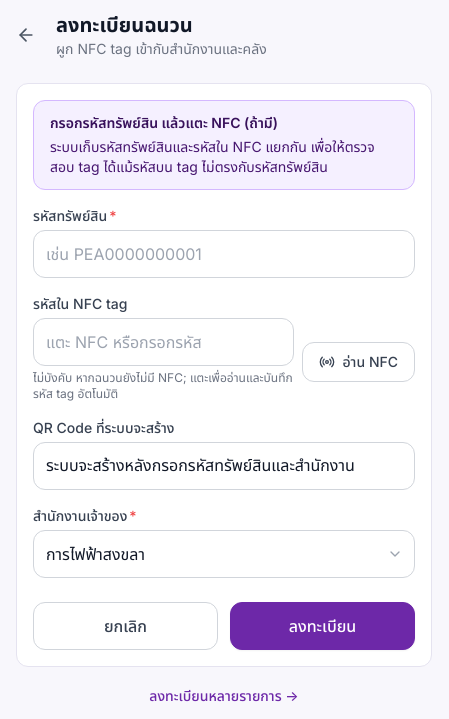
it: RegisterCoverPage — single add (Flow 2) › routes a scanned NFC text record into the nfcId field, not assetCode
The image size is (449, 719).
Type "PEA-0001" into the field labelled "รหัสทรัพย์สิน*" at [224, 254], box [33,230,415,278]
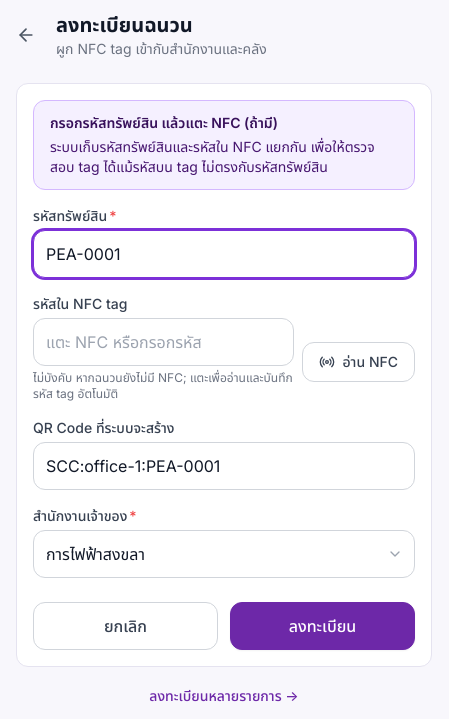
Click the button "อ่าน NFC" at [358, 362], box [302,342,415,382]
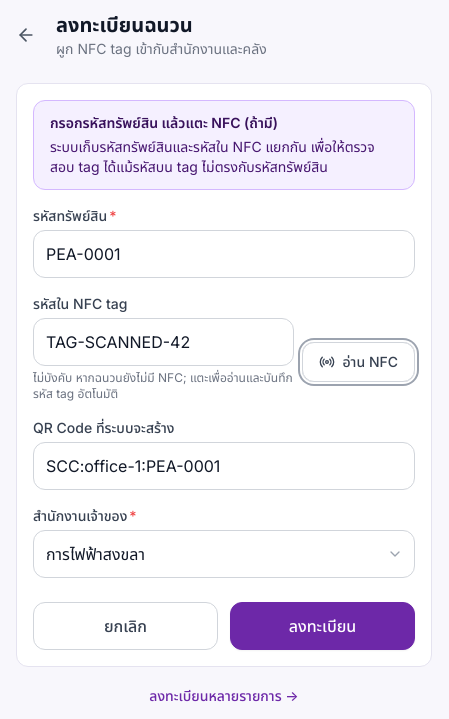
Check: the field labelled "รหัสใน NFC tag" holds "TAG-SCANNED-42", box [33,318,294,366]
